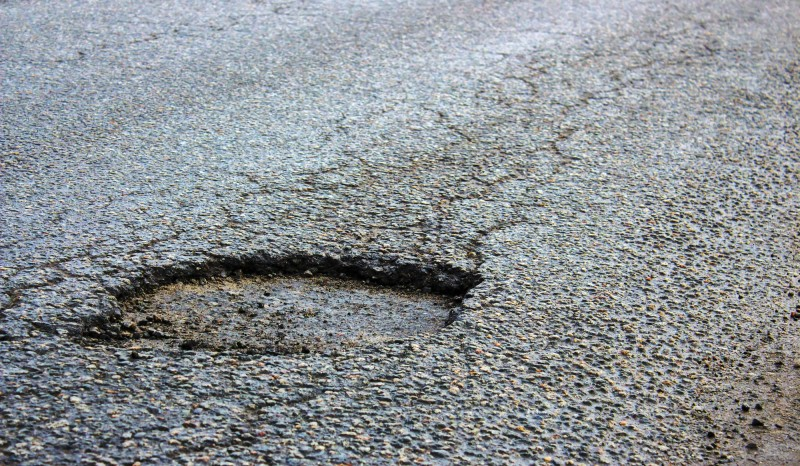pothole: (67, 235, 476, 360)
